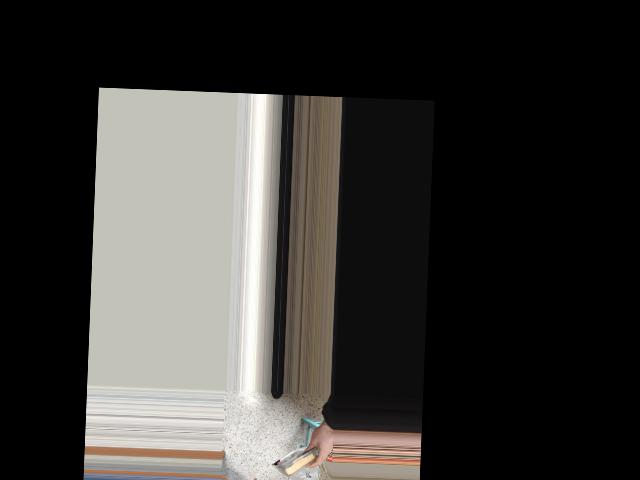cheese: (271, 440, 330, 479)
